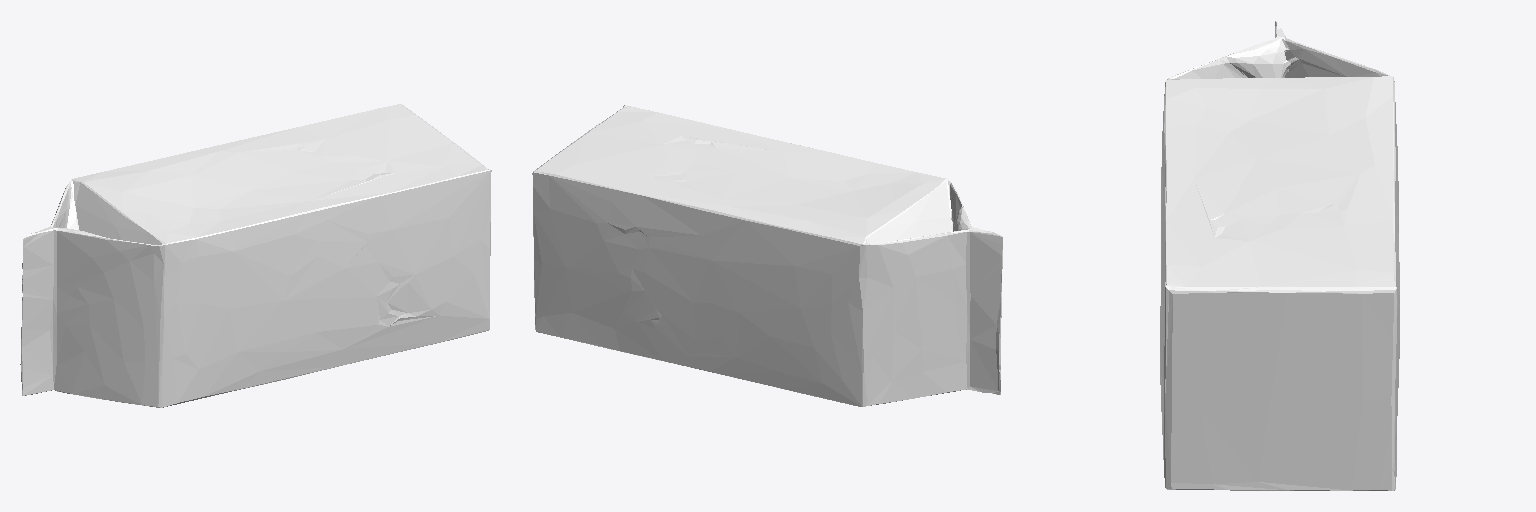
URDF robot description (myfirst):
<?xml version="1.0"?>
 <robot name="myfirst">
   <material name="light_green">
     <color rgba="0 1 0.498 1"/>
   </material>
   <material name="coral">
     <color rgba="1 0.498 0.3137 1"/>
   </material>
   <link name="Milk">
     <visual>
       <geometry>
         <!-- <box size="0.16 0.21343700408935547 0.061"/> -->
         <mesh filename="Milk.obj" scale="1 1 1"/>
       </geometry>
       <!-- <material name="light_green"/> -->
       <material name="white">
         <color rgba="1. 1. 1. 1."/>
       </material>
       <origin xyz="0 0 0" rpy="0 0 0"/>
     </visual>
     <inertial>
       <mass value="0.5"/>
       <inertia ixx="1.0" ixy="0.0" ixz="0.0" iyy="1.0" iyz="0.0" izz="1.0"/>
     </inertial>
     <collision>
       <geometry>
         <mesh filename="Milk.obj" scale="1 1 1"/>
       </geometry>
       <origin xyz="0 0 0" rpy="0 0 0"/>
     </collision>
   </link>

   
 </robot>

--- Render facts (derived) ---
Views: 3 orthographic renders of the robot side by side, from view 1: azimuth 30°, elevation 25°; view 2: azimuth 150°, elevation 25°; view 3: azimuth 270°, elevation 25°.
Model myfirst with 1 links and 0 joints (none), rooted at Milk, posed every joint at zero.
Links seen in each view (by area): view 1: Milk; view 2: Milk; view 3: Milk.
Boxes of the visible links, left/top/right/bottom form: Milk: left=20, top=104, right=491, bottom=407; Milk: left=532, top=105, right=1002, bottom=406; Milk: left=1160, top=21, right=1399, bottom=490.
Size in the robot's own frame: 0.1903 by 0.0732 by 0.0722 metres.
1 mesh visuals loaded from 1 distinct referenced files (1 OBJ).
